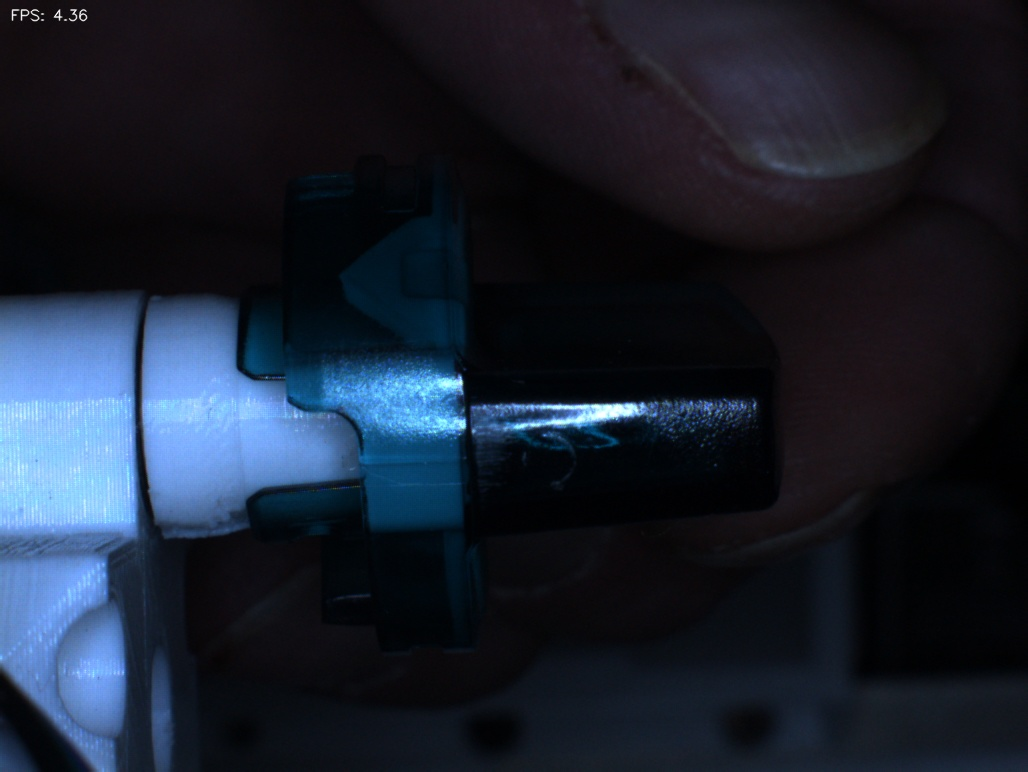DentOk: (315, 236, 387, 326)
